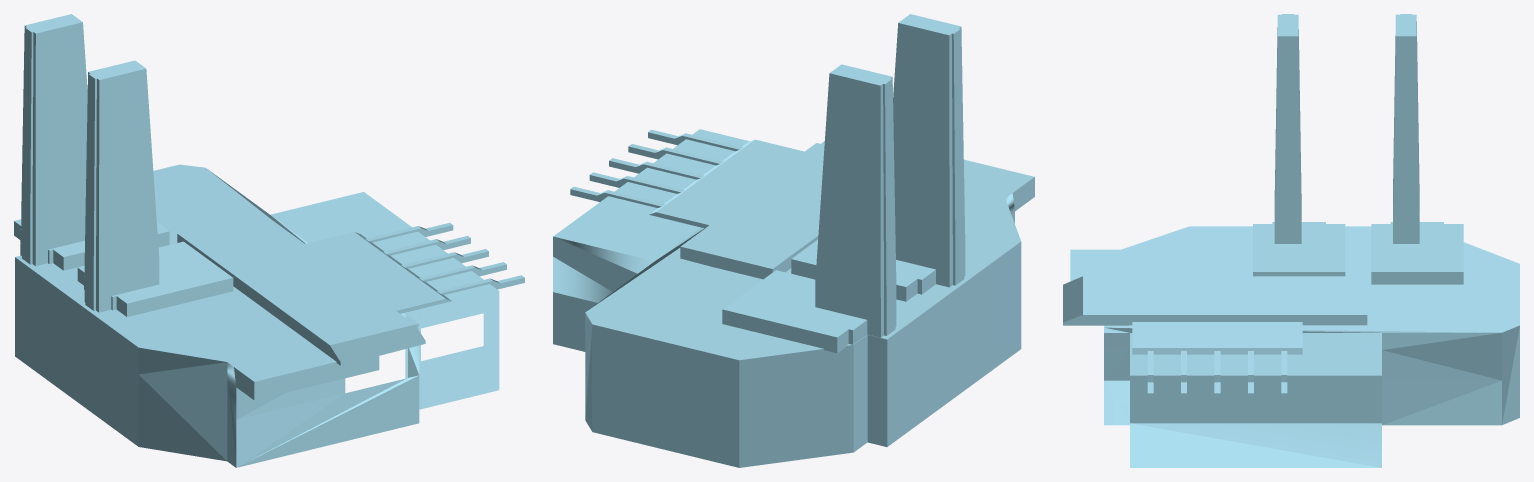
The model's file is building_industrial_001_a.glb.
3 views of the same model, side by side, from view 1: azimuth 30°, elevation 25°; view 2: azimuth 150°, elevation 25°; view 3: azimuth 270°, elevation 25° (orthographic). The views are drawn at different scales.
Bounding box in the file's own units: 93.1 × 80.79 × 109.
